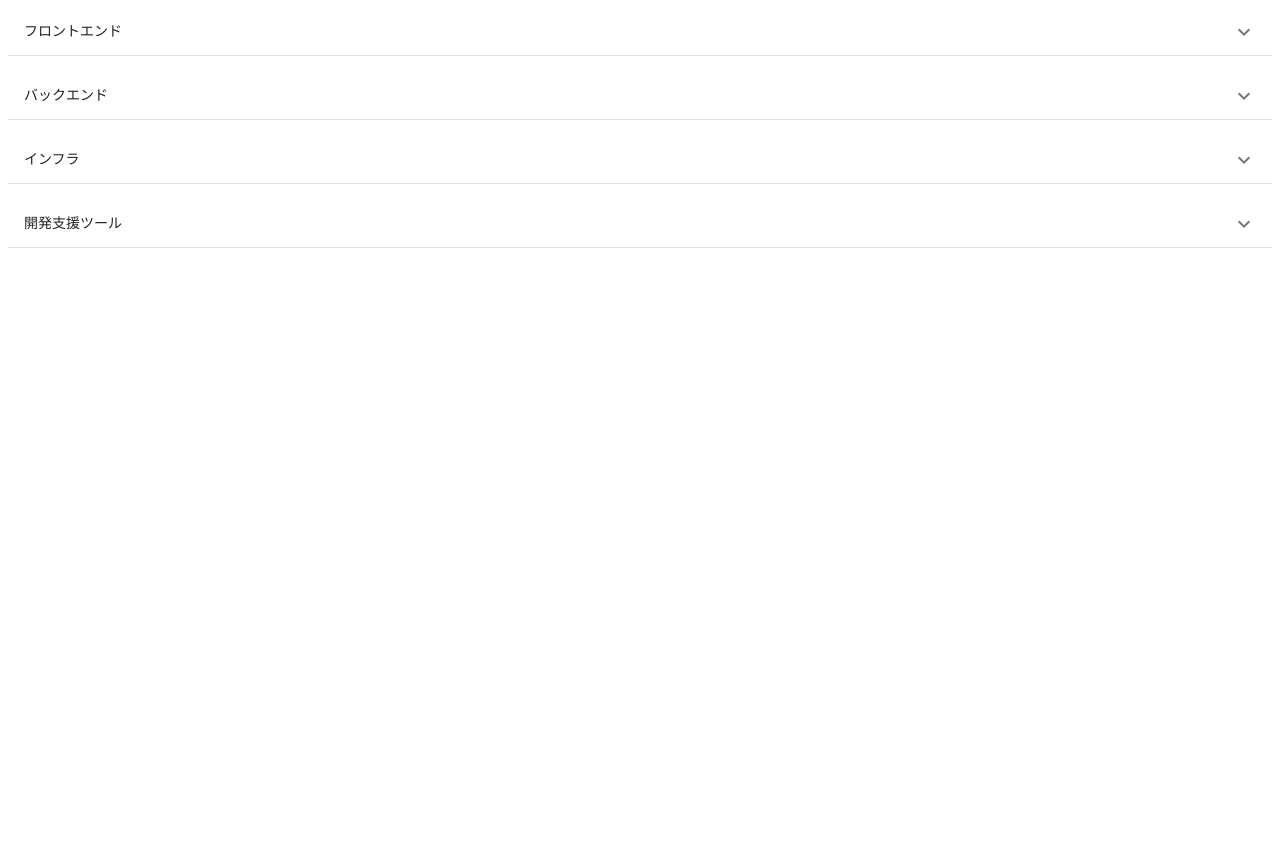
Test: TechStackFieldList › フロントエンド を開くと、そのカテゴリの入力欄を表示すること
Click the button "フロントエンド".
click(73, 31)  # box top-left (8, 8), bottom-right (1272, 56)
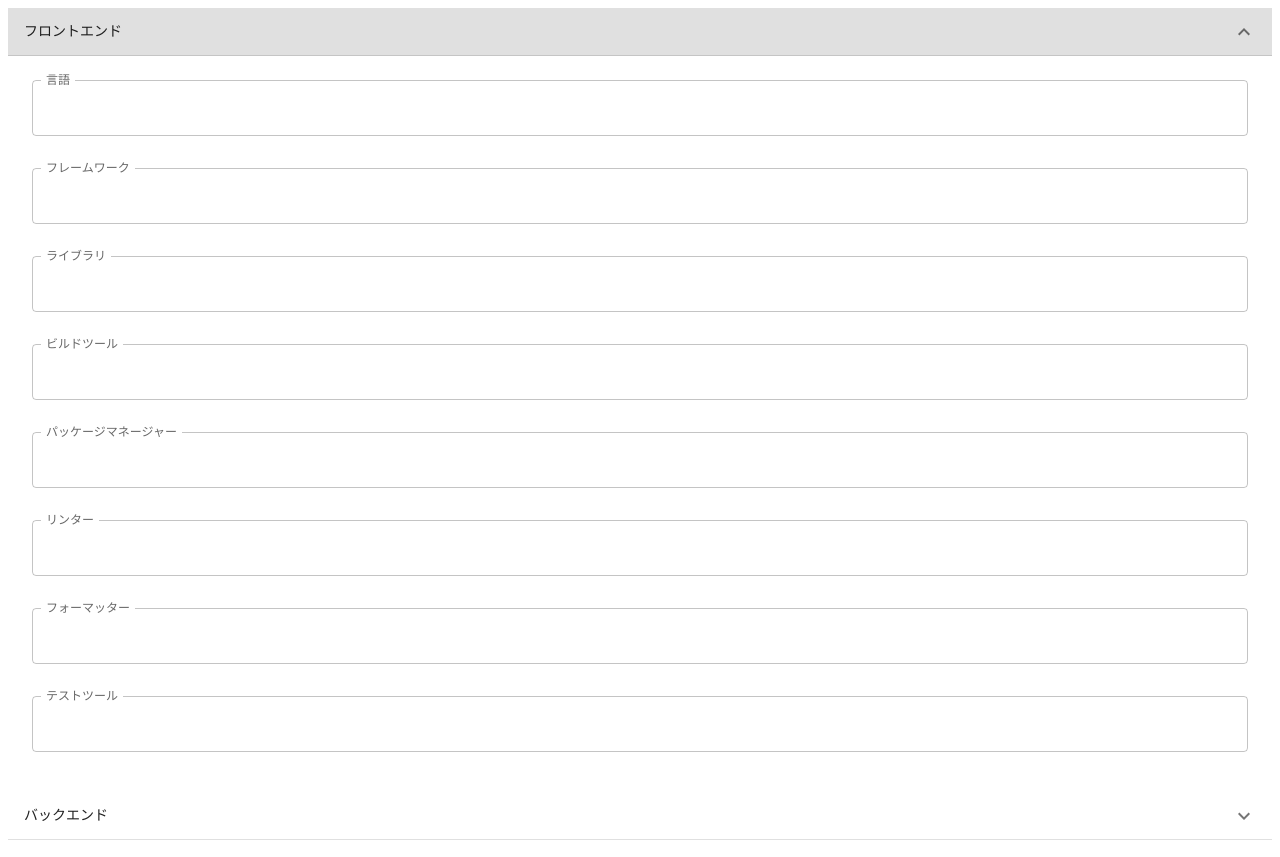
Expected: the button "フロントエンド" is expanded, top-left (8, 8), bottom-right (1272, 56)
Expected: the number of dropdowns is 8
